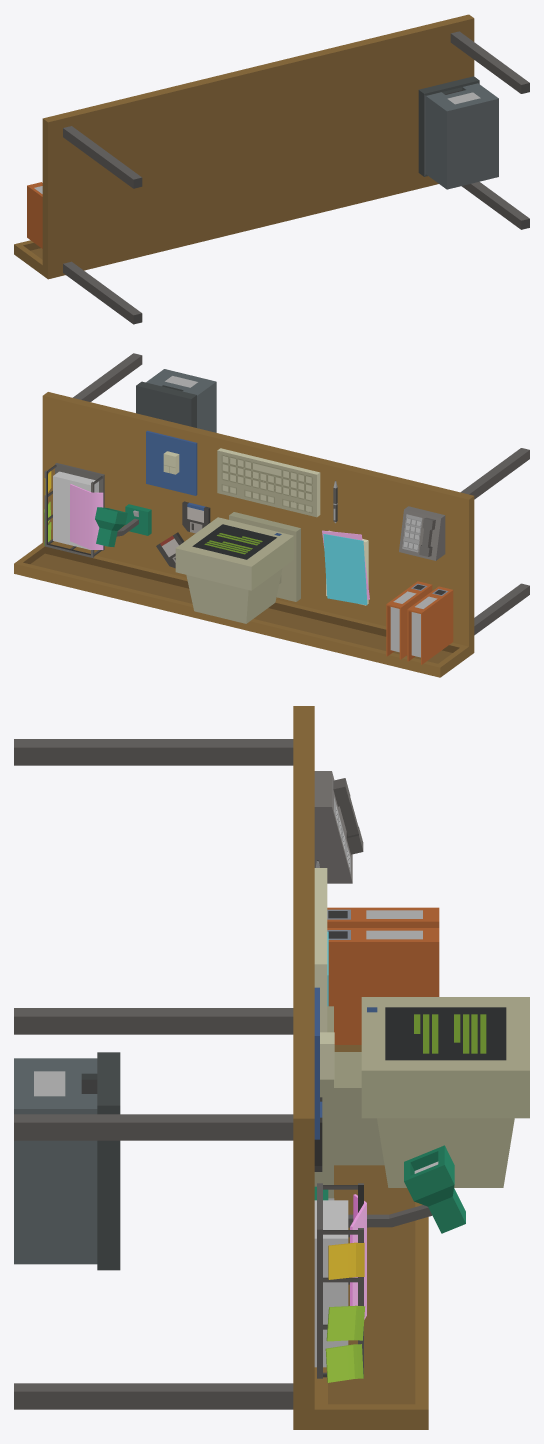
File: DeskPreset5.glb
The picture shows the model from 3 angles, top to bottom: view 1: azimuth 30°, elevation 25°; view 2: azimuth 150°, elevation 25°; view 3: azimuth 270°, elevation 25°; orthographic projection. The views are drawn at different scales.
Parts seen in each view (by area): view 1: SO_DeskPreset_05; view 2: SO_DeskPreset_05; view 3: SO_DeskPreset_05.
Part boxes in pixels (<box>): SO_DeskPreset_05: <box>14,14,529,324</box>; SO_DeskPreset_05: <box>14,353,529,677</box>; SO_DeskPreset_05: <box>14,706,529,1429</box>.
Size of the model in its own units: 5.11 by 1.8 by 2.7.
1 material, 1 textured.
